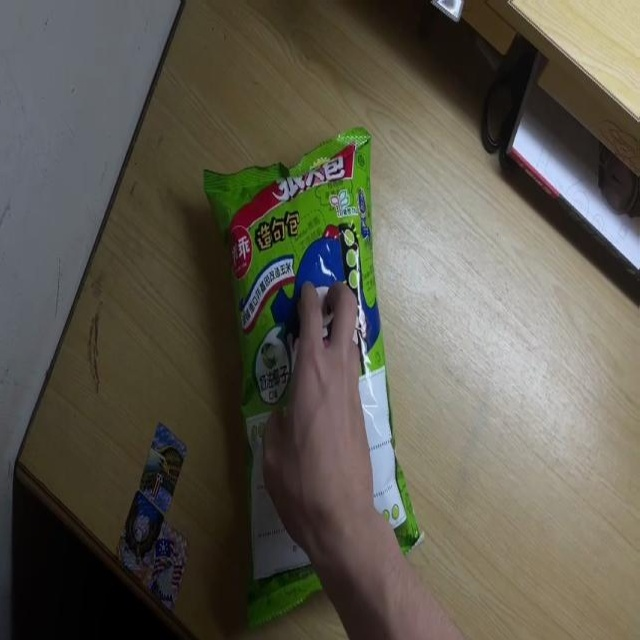Good-Luck: (203, 123, 424, 624)
